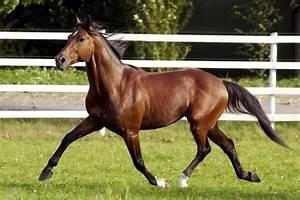horse: (37, 13, 293, 189)
